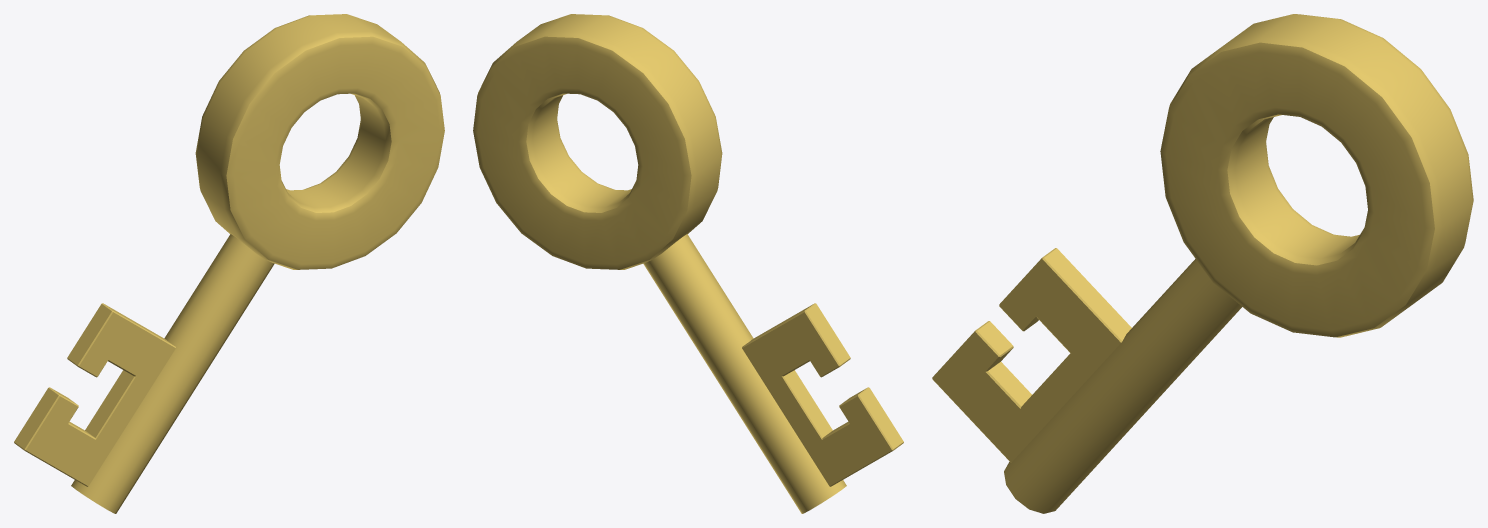
The model's file is a1_key_04.fbx.
The picture shows the model from 3 angles, left to right: view 1: azimuth 30°, elevation 25°; view 2: azimuth 150°, elevation 25°; view 3: azimuth 330°, elevation 25°; orthographic projection. The views are drawn at different scales.
Visible parts, largest first — view 1: key; view 2: key; view 3: key.
Part boxes in pixels (left/top/right/bottom): key: left=14, top=14, right=444, bottom=513; key: left=473, top=14, right=903, bottom=513; key: left=932, top=14, right=1473, bottom=513.
Bounding box in the file's own units: 2.22 × 2.24 × 0.315.
